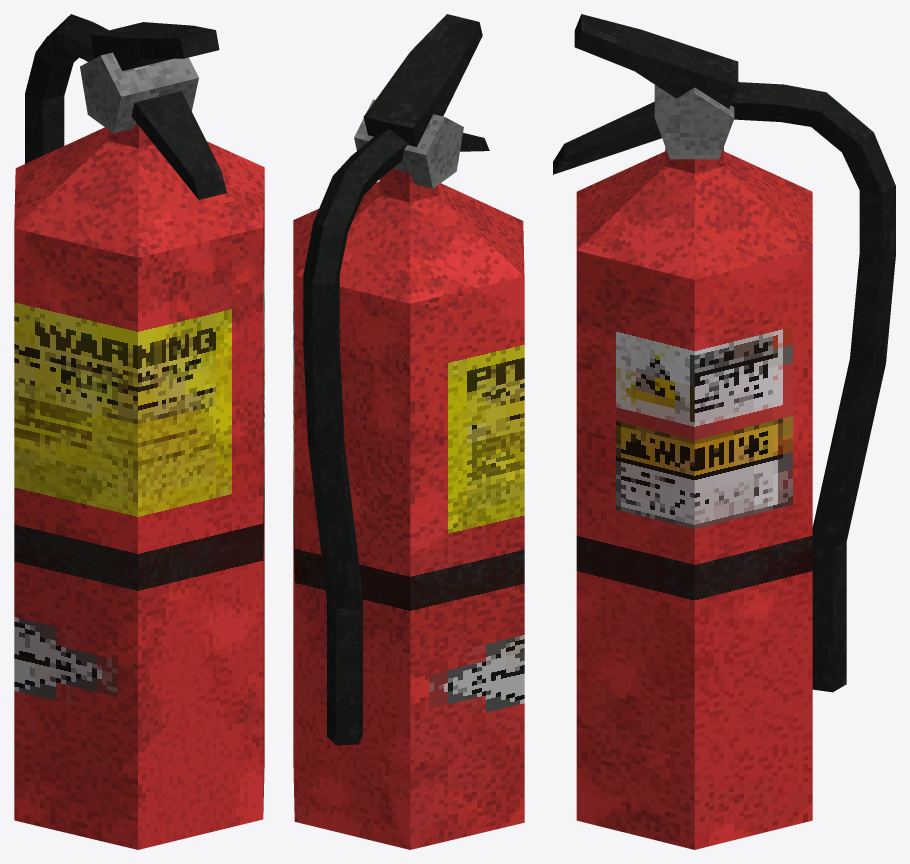
File: psx_fire_extinguisher.glb
3 views of the same model, side by side, from view 1: azimuth 30°, elevation 25°; view 2: azimuth 150°, elevation 25°; view 3: azimuth 270°, elevation 25° (orthographic). The views are drawn at different scales.
Parts seen in each view (by area): view 1: tank_0, hose_4, valve assembly_1, handle_2, release lever_3; view 2: tank_0, hose_4, release lever_3, valve assembly_1; view 3: tank_0, hose_4, release lever_3, valve assembly_1, handle_2.
Part boxes in pixels (x1,y1,x2,y2): tank_0: (14, 122, 264, 849); hose_4: (25, 14, 108, 163); valve assembly_1: (80, 52, 198, 133); handle_2: (131, 91, 226, 199); release lever_3: (90, 22, 219, 70); tank_0: (293, 168, 524, 849); hose_4: (303, 129, 407, 745); release lever_3: (363, 14, 482, 146); valve assembly_1: (354, 99, 463, 188); tank_0: (576, 147, 812, 849); hose_4: (731, 82, 895, 692); release lever_3: (574, 14, 738, 108); valve assembly_1: (654, 85, 734, 159); handle_2: (553, 101, 661, 174).
Size of the model in its own units: 0.4427 by 1.35 by 0.5449.
1 material, 1 textured.
